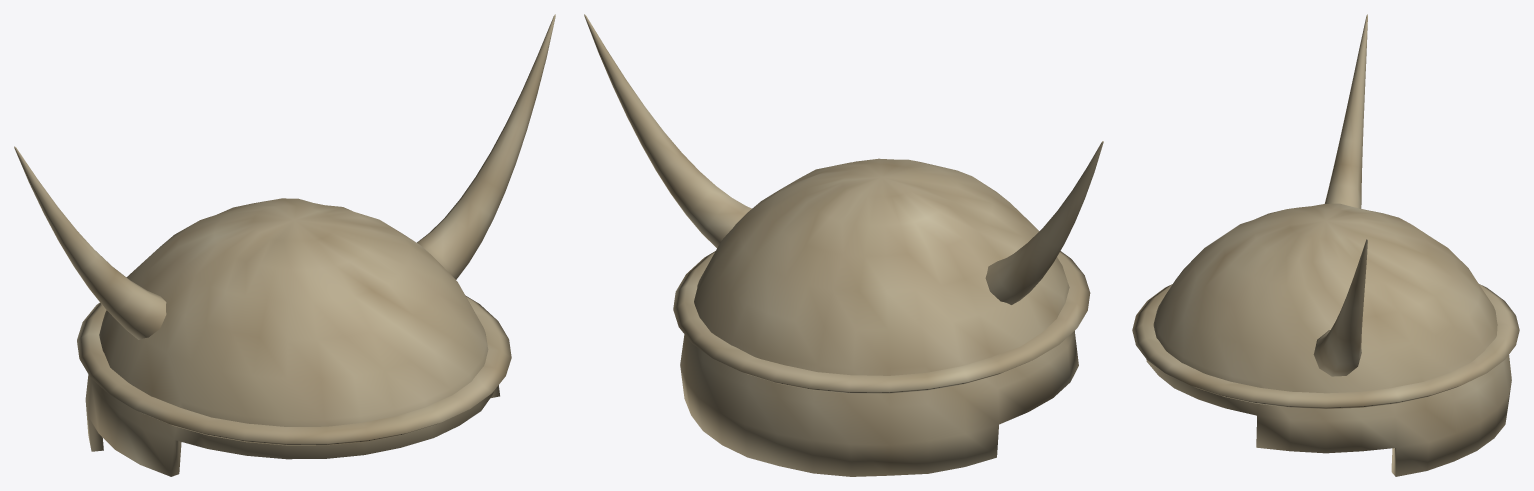
Rendered from bone_helm.glb.
The picture shows the model from 3 angles, left to right: view 1: azimuth 30°, elevation 25°; view 2: azimuth 150°, elevation 25°; view 3: azimuth 270°, elevation 25°; orthographic projection. The views are drawn at different scales.
Parts seen in each view (by area): view 1: bone_helm__Head; view 2: bone_helm__Head; view 3: bone_helm__Head.
Part boxes in pixels (x1,y1,x2,y2): bone_helm__Head: (14,14,555,476); bone_helm__Head: (584,14,1103,476); bone_helm__Head: (1132,14,1519,476).
Size of the model in its own units: 0.2518 by 0.1519 by 0.1837.
